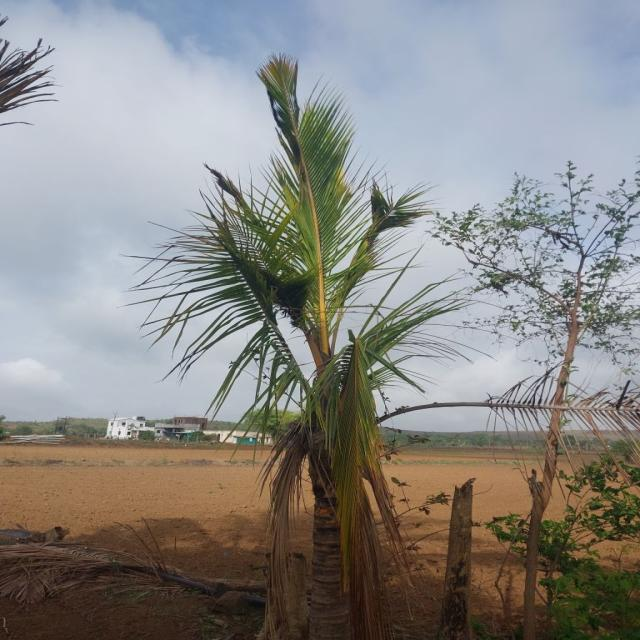bud root dropping: (137, 56, 463, 639)
